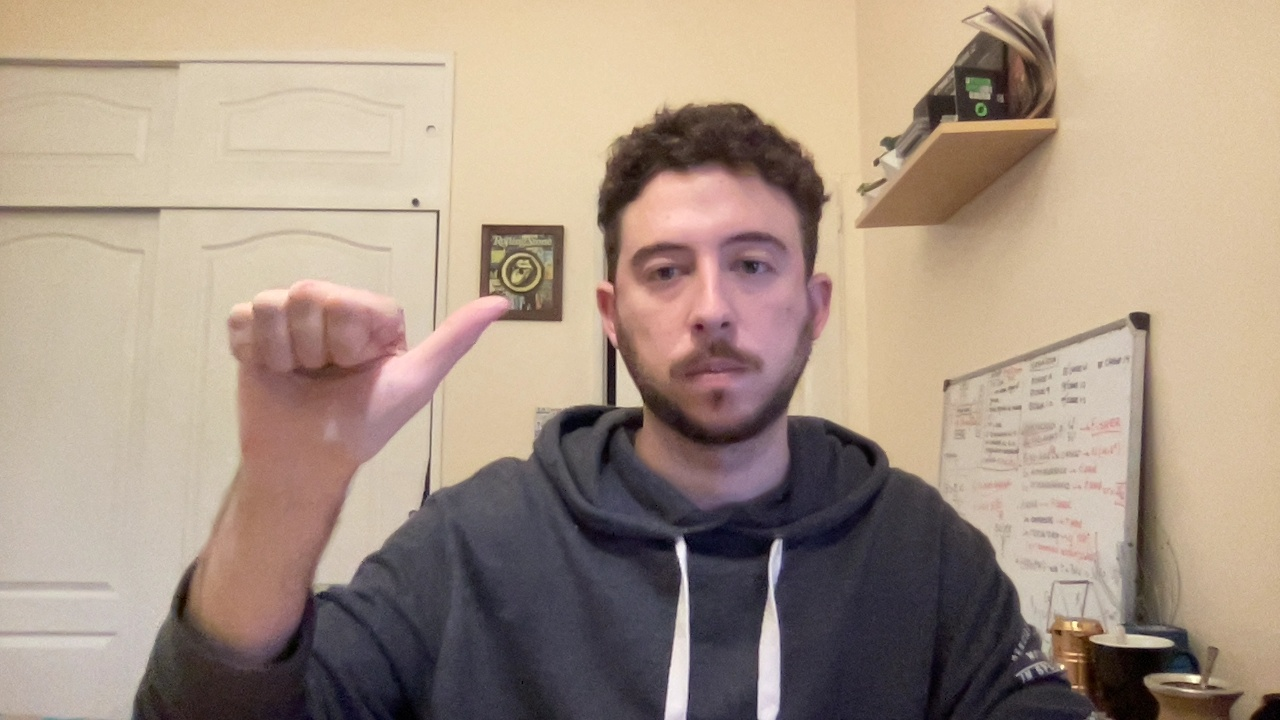pulgar: (185, 261, 531, 444)
